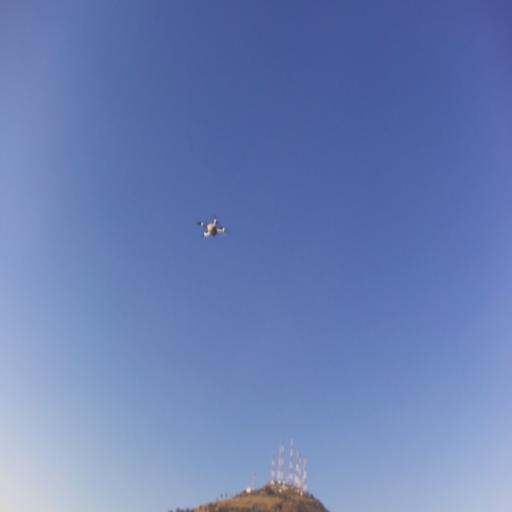drones: (197, 211, 228, 249)
